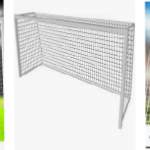goals: (13, 10, 137, 132)
